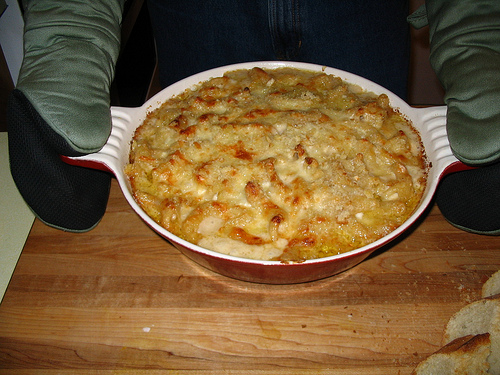macncheese: (113, 58, 426, 262)
